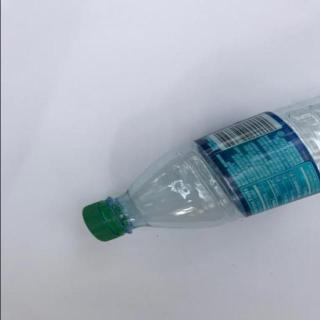Anorganik: (75, 93, 318, 247)
